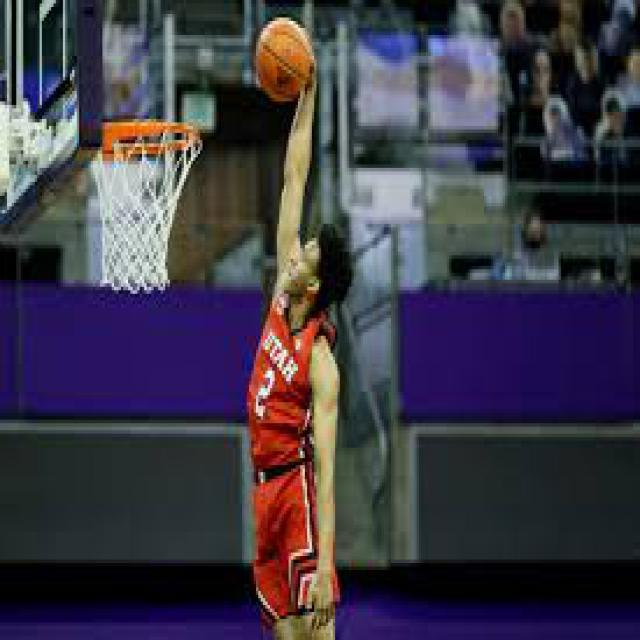basketball: (256, 13, 312, 102)
rim: (95, 118, 200, 160)
